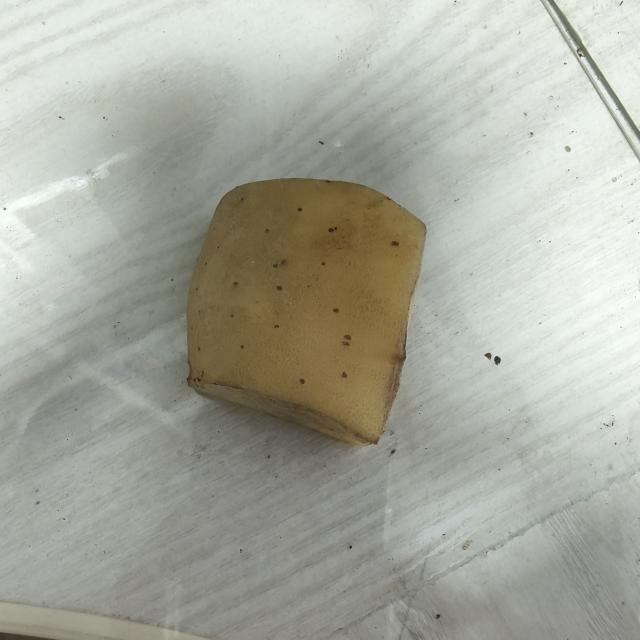-Kitchen waste - potato-: (184, 173, 437, 454)
